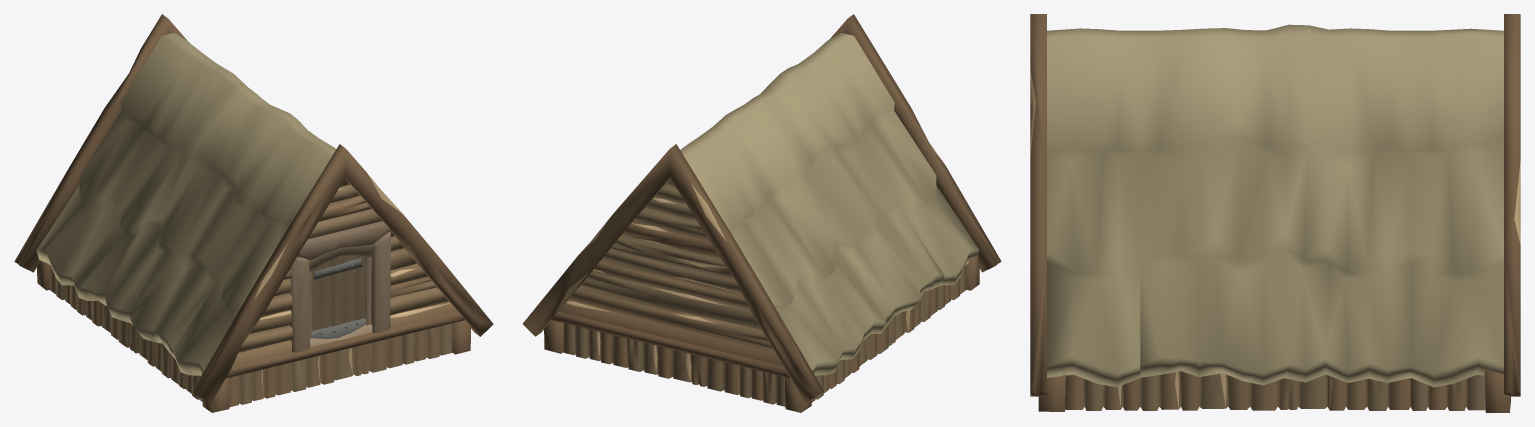
Rendered from rpgpp_lt_building_02 -col.glb.
The picture shows the model from 3 angles, left to right: view 1: azimuth 30°, elevation 25°; view 2: azimuth 150°, elevation 25°; view 3: azimuth 270°, elevation 25°; orthographic projection. The views are drawn at different scales.
Visible parts, largest first — view 1: rpgpp_lt_building_02 -col; view 2: rpgpp_lt_building_02 -col; view 3: rpgpp_lt_building_02 -col.
Part boxes in pixels (x1=…): rpgpp_lt_building_02 -col: x1=14, y1=14, x2=493, y2=412; rpgpp_lt_building_02 -col: x1=523, y1=14, x2=1001, y2=412; rpgpp_lt_building_02 -col: x1=1030, y1=14, x2=1520, y2=412.
Size of the model in its own units: 8.41 by 6.41 by 9.06.
Materials: 1 (1 with a texture image).
